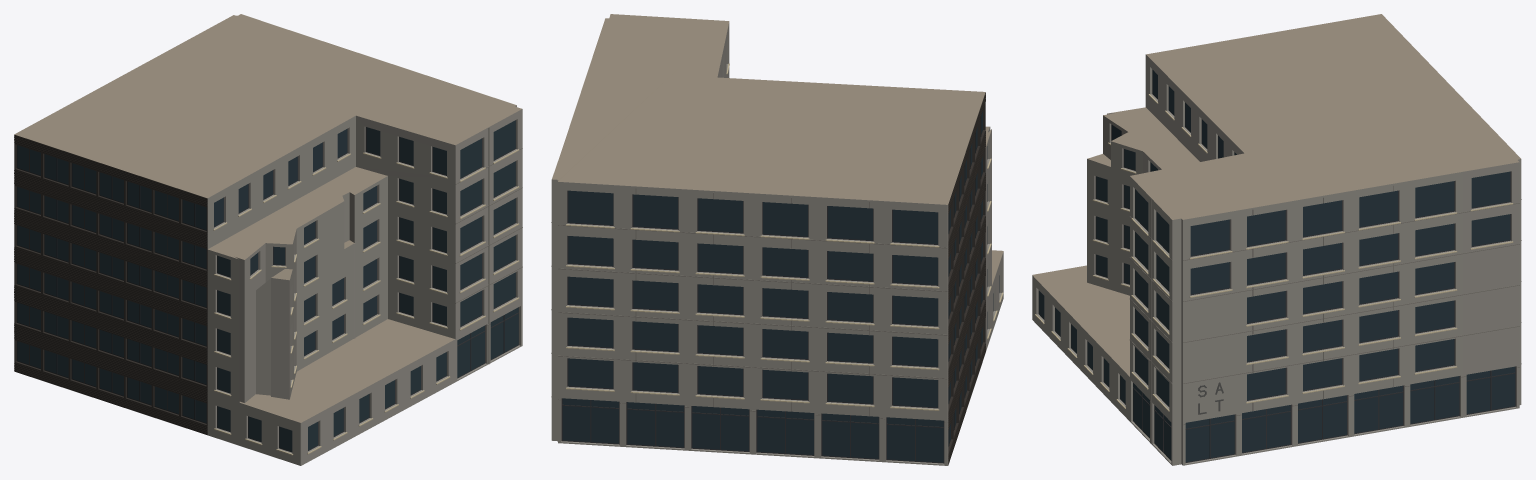
Rendered from recipe-large-houthavens-250251.glb.
3 renders of one model, left to right at view 1: azimuth 30°, elevation 25°; view 2: azimuth 150°, elevation 25°; view 3: azimuth 270°, elevation 25°, orthographic. The views are drawn at different scales.
Parts seen in each view (by area): view 1: houthavens-250251; view 2: houthavens-250251; view 3: houthavens-250251.
Part boxes in pixels (x1,y1,x2,y2): houthavens-250251: (14,14,522,465); houthavens-250251: (551,14,1003,465); houthavens-250251: (1032,14,1521,465).
Bounding box in the file's own units: 38.82 × 21.58 × 38.91.
